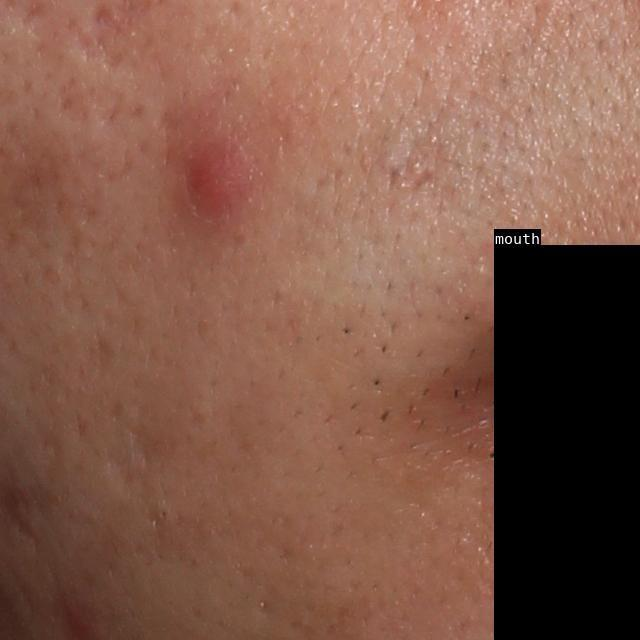papule: (176, 133, 263, 230), (59, 602, 97, 639)
